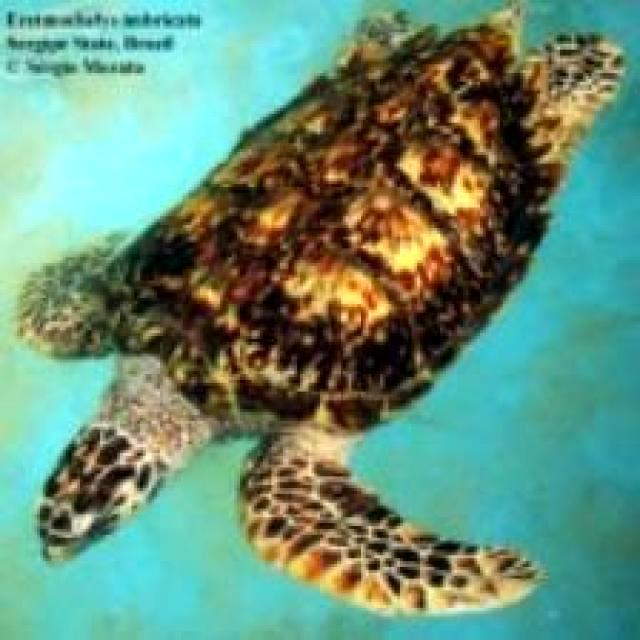Sea turtle: (8, 4, 624, 616)
